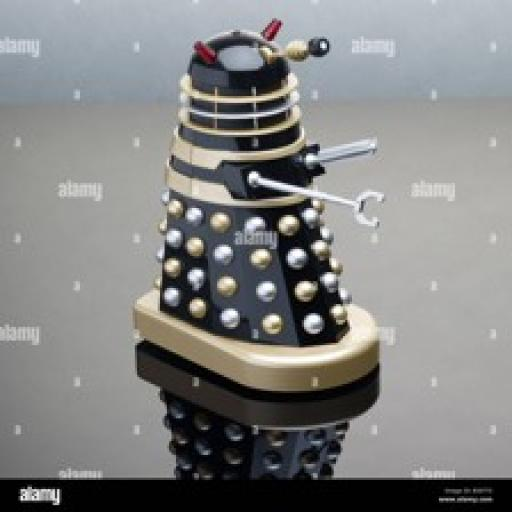dalek: (124, 10, 393, 400)
